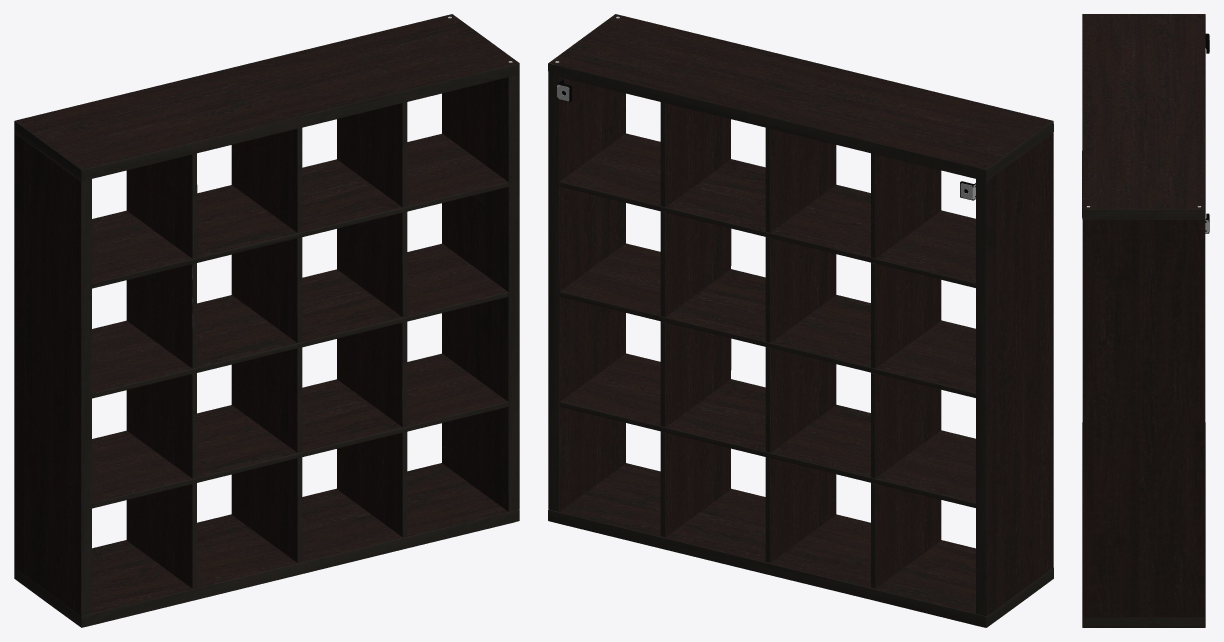
File: KALLAX_10275862.glb
3 renders of one model, left to right at view 1: azimuth 30°, elevation 25°; view 2: azimuth 150°, elevation 25°; view 3: azimuth 270°, elevation 25°, orthographic. The views are drawn at different scales.
Parts seen in each view (by area): view 1: 10275862-KALLAX001; view 2: 10275862-KALLAX001; view 3: 10275862-KALLAX001.
Boxes of the visible parts, x1,y1,x2,y2 form: 10275862-KALLAX001: (14,14,519,627); 10275862-KALLAX001: (548,14,1053,627); 10275862-KALLAX001: (1082,14,1209,627).
Bounding box in the file's own units: 1.47 × 1.47 × 0.4052.
Materials: 1 (1 with a texture image).
